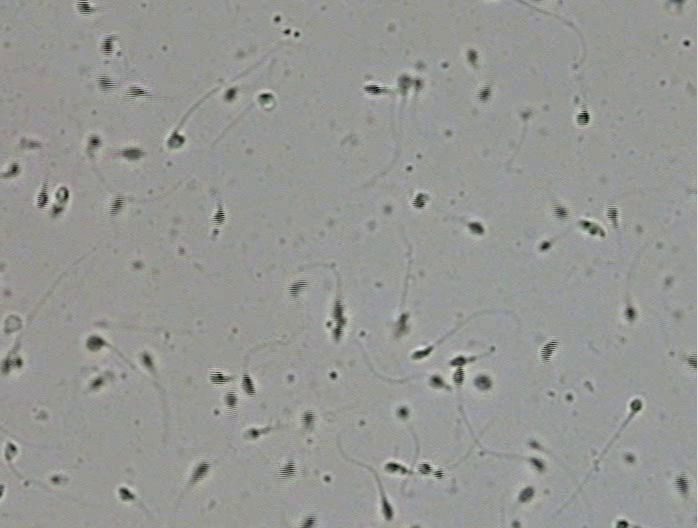S: (329, 301, 347, 341), (580, 220, 605, 238), (240, 374, 257, 397), (394, 313, 410, 337), (191, 463, 209, 482), (540, 341, 557, 361), (96, 75, 117, 91), (288, 280, 309, 296), (109, 196, 125, 216), (120, 148, 144, 161), (277, 463, 296, 479), (673, 476, 689, 495), (86, 336, 106, 351), (167, 133, 186, 148), (101, 36, 115, 56), (126, 86, 147, 99), (209, 371, 228, 385), (474, 375, 491, 390), (397, 75, 412, 92), (55, 186, 70, 203), (75, 1, 93, 15), (212, 208, 226, 226), (381, 499, 393, 520), (36, 190, 49, 209), (412, 347, 431, 360), (518, 487, 534, 502), (223, 391, 237, 408), (4, 442, 17, 460), (449, 355, 468, 367), (412, 193, 427, 208), (119, 488, 135, 502), (576, 110, 590, 126), (529, 457, 545, 471), (301, 411, 314, 428), (140, 353, 154, 368), (477, 86, 491, 101), (363, 84, 382, 95), (468, 222, 484, 235), (299, 516, 316, 528), (453, 366, 464, 384), (224, 87, 238, 101), (553, 205, 567, 219), (624, 306, 637, 321), (607, 204, 618, 221), (88, 136, 102, 149), (7, 163, 20, 177), (417, 462, 431, 475), (49, 205, 64, 217), (394, 406, 409, 418), (258, 93, 274, 104), (11, 355, 24, 368), (245, 429, 260, 440), (384, 462, 399, 473), (90, 378, 103, 390), (1, 358, 10, 375), (687, 354, 697, 369), (630, 399, 642, 411), (430, 376, 443, 387), (467, 49, 477, 63), (537, 241, 551, 251), (413, 77, 422, 91), (528, 441, 542, 449), (615, 520, 629, 528), (1, 483, 4, 498)
